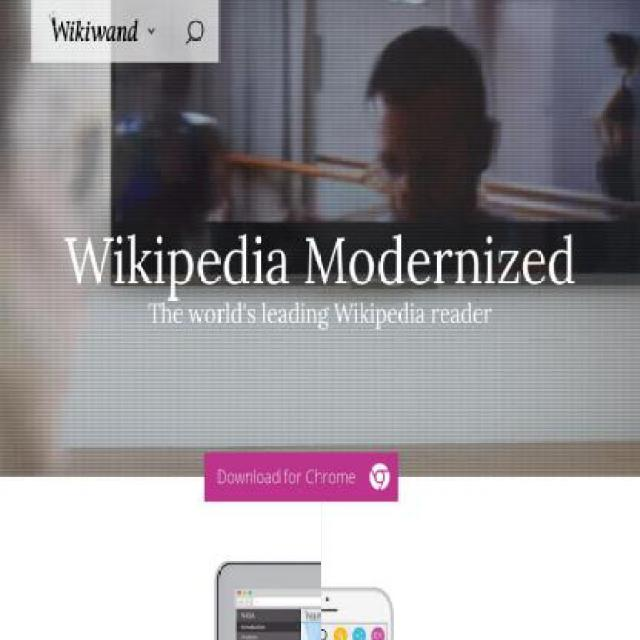button: (204, 452, 398, 502)
